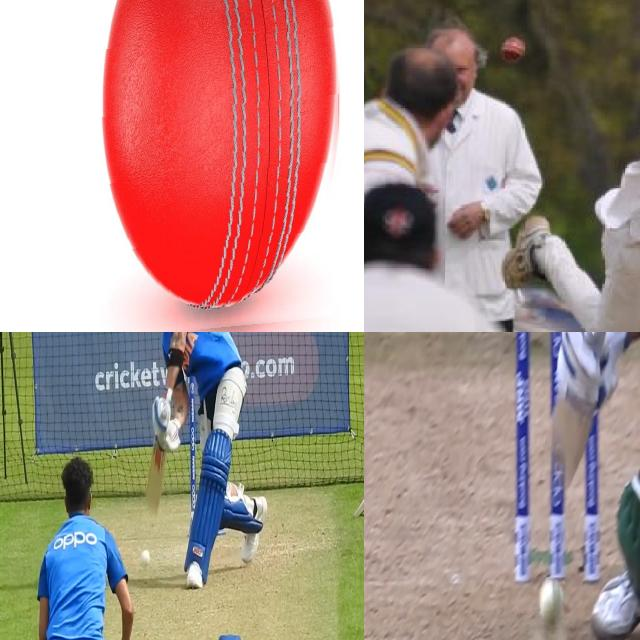Cricket ball: (96, 0, 342, 332), (495, 32, 531, 71), (539, 577, 565, 629), (140, 549, 152, 569)
Stumps: (514, 332, 601, 582)
